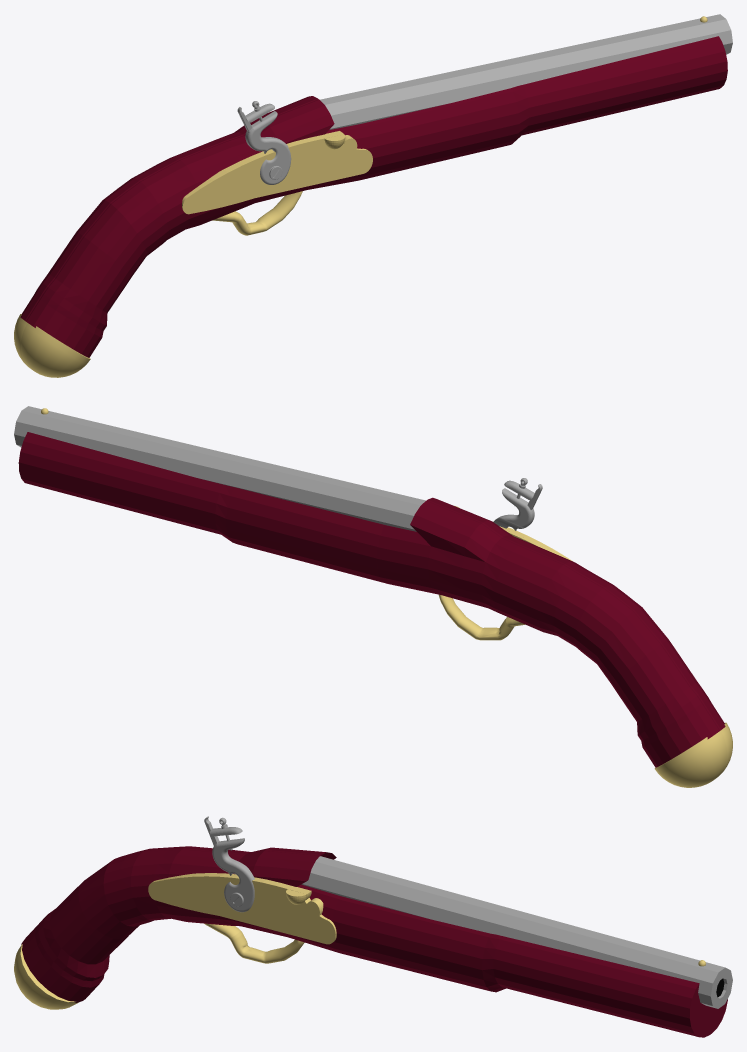
The model's file is pistol1.fbx.
The picture shows the model from 3 angles, top to bottom: view 1: azimuth 30°, elevation 25°; view 2: azimuth 150°, elevation 25°; view 3: azimuth 330°, elevation 25°; orthographic projection.
Parts seen in each view (by area): view 1: pCylinder4, pPipe1, Part20, pCylinder1, pSphere3, part1, pTriggerGuard; view 2: pCylinder1, pPipe1, pCylinder4, pSphere1, part1, pTriggerGuard; view 3: pCylinder4, pPipe1, Part20, part1, pSphere3, pTriggerGuard, pCylinder1.
Boxes of the visible parts, <box> form: pCylinder4: <box>26,36,727,357</box>; pPipe1: <box>320,14,732,129</box>; Part20: <box>182,132,372,214</box>; pCylinder1: <box>20,96,318,321</box>; pSphere3: <box>21,323,90,377</box>; part1: <box>237,101,291,184</box>; pTriggerGuard: <box>212,191,302,235</box>; pCylinder1: <box>18,432,719,767</box>; pPipe1: <box>14,406,425,531</box>; pCylinder4: <box>427,497,725,730</box>; pSphere1: <box>654,731,726,787</box>; part1: <box>493,478,542,530</box>; pTriggerGuard: <box>438,594,525,640</box>; pCylinder4: <box>21,849,725,1037</box>; pPipe1: <box>301,856,732,1008</box>; Part20: <box>148,874,336,944</box>; part1: <box>204,816,254,912</box>; pSphere3: <box>14,944,78,1009</box>; pTriggerGuard: <box>204,923,304,963</box>; pCylinder1: <box>85,846,727,1033</box>.
Size of the model in its own units: 7.63 by 2.53 by 0.9114.
